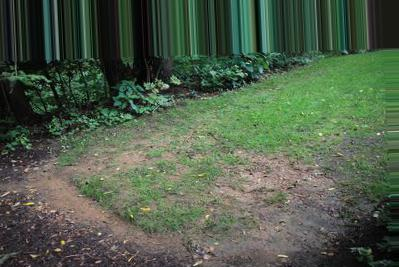patch: (234, 164, 315, 211), (208, 209, 297, 251), (43, 171, 99, 226), (102, 207, 175, 246), (95, 149, 156, 181)
